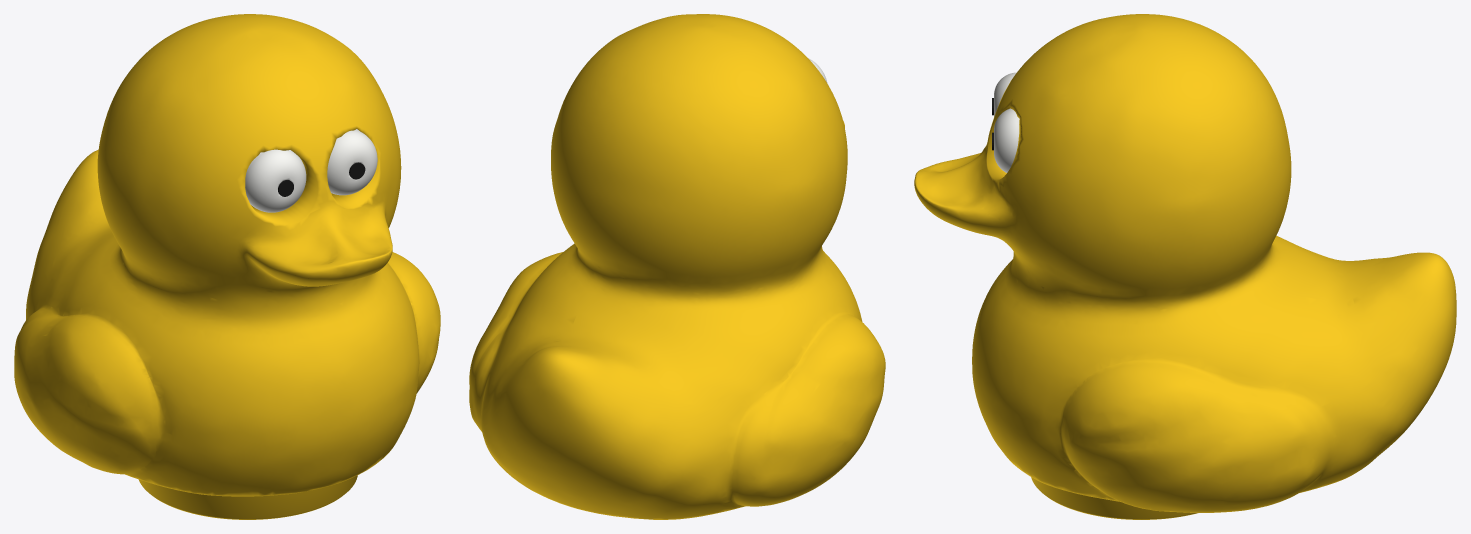
Rendered from pop-eyed-duck-v2.glb.
3 views of the same model, side by side, from view 1: azimuth 30°, elevation 25°; view 2: azimuth 150°, elevation 25°; view 3: azimuth 270°, elevation 25° (orthographic). The views are drawn at different scales.
Parts seen in each view (by area): view 1: duck_head, eyes, base; view 2: duck_head; view 3: duck_head, base, eyes.
Part boxes in pixels (x1,y1,x2,y2): duck_head: (14, 14, 440, 496); eyes: (245, 129, 377, 212); base: (138, 475, 357, 519); duck_head: (469, 14, 885, 519); duck_head: (914, 14, 1456, 512); base: (1031, 477, 1197, 519); eyes: (994, 72, 1019, 172).
Size of the model in its own units: 72.91 by 83.61 by 91.98.
